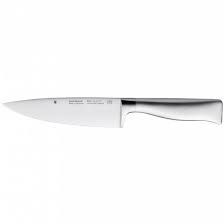kuchillu: (1, 92, 224, 131)
